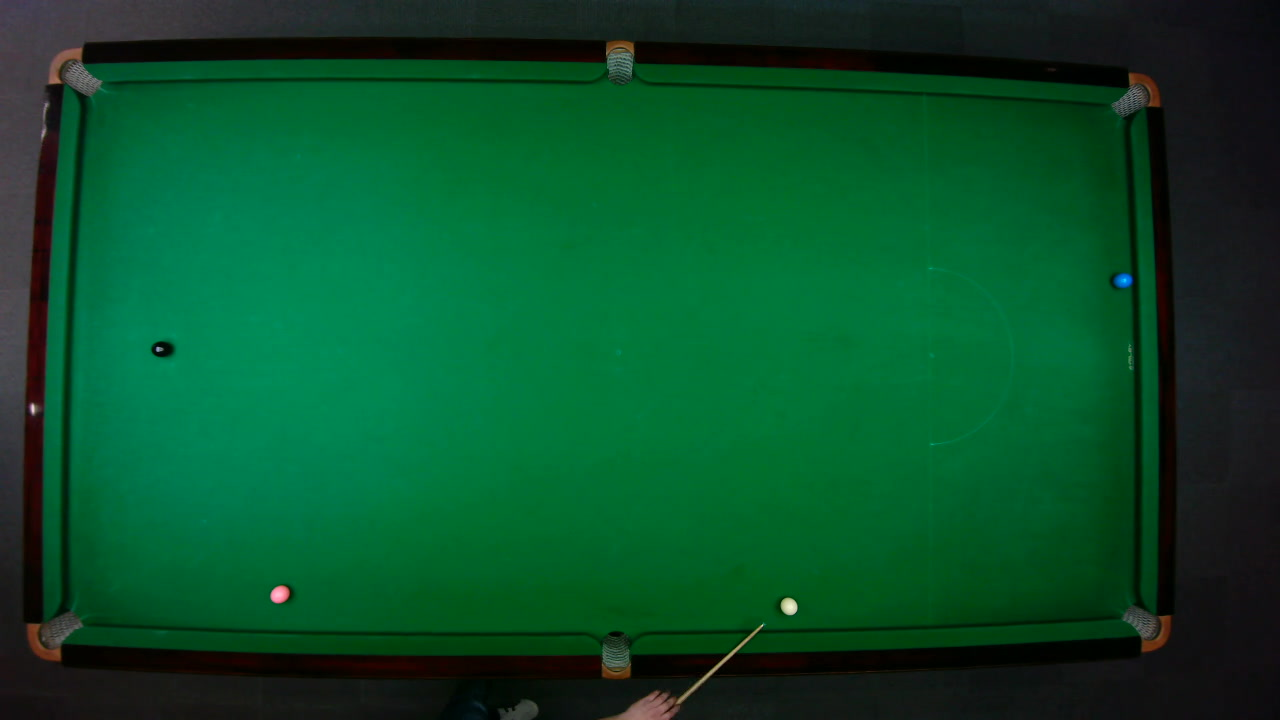bag: (25, 609, 84, 661), (45, 46, 102, 96), (1119, 603, 1171, 651), (1108, 71, 1161, 118), (600, 629, 630, 680), (605, 38, 633, 85)
black: (149, 339, 171, 357)
blue: (1112, 271, 1133, 288)
cue: (671, 620, 767, 713)
pink: (268, 583, 290, 604)
white: (778, 596, 798, 615)
zone: (927, 266, 1013, 445)
